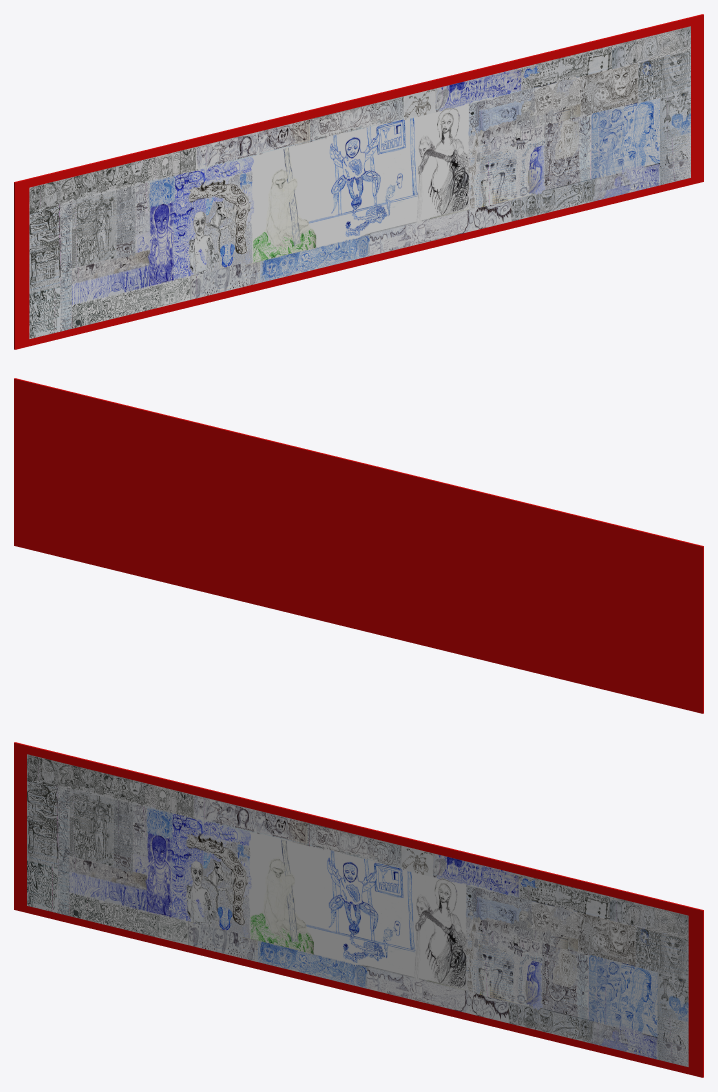
The model's file is PaintingD.fbx.
3 views of the same model, one above another, from view 1: azimuth 30°, elevation 25°; view 2: azimuth 150°, elevation 25°; view 3: azimuth 330°, elevation 25° (orthographic).
Visible parts, largest first — view 1: polySurface4; view 2: polySurface4; view 3: polySurface4.
Part boxes in pixels (<box>): polySurface4: <box>14,14,703,349</box>; polySurface4: <box>14,378,703,713</box>; polySurface4: <box>14,742,703,1077</box>.
Size of the model in its own units: 25.03 by 5.8 by 0.106.
Materials: 2 (1 with a texture image).
